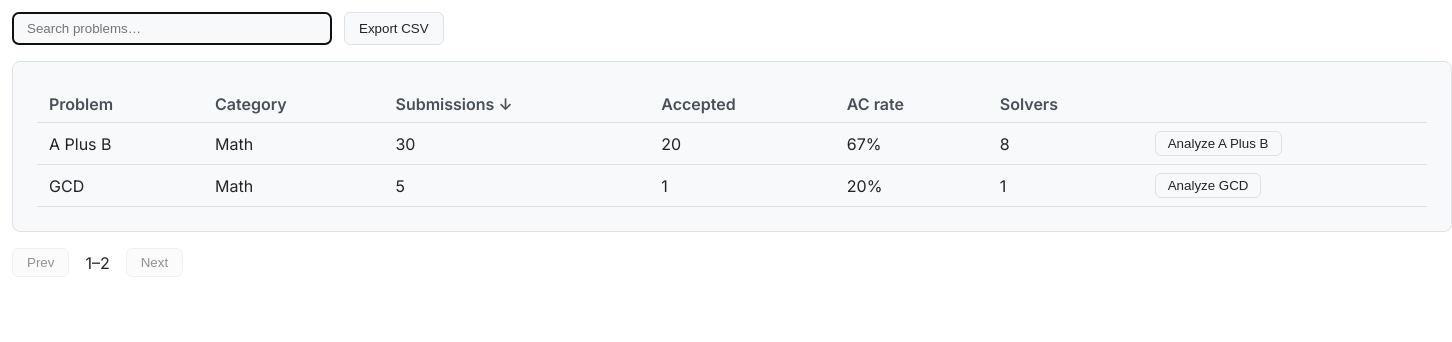
Scenario: ProblemsTab › keeps the focused search input mounted through loading, empty results, and errors
Expected: the text "A Plus B" is shown, x1=37 y1=122 x2=203 y2=164
In the field labelled "Search problems…": (172, 28) x1=12 y1=12 x2=332 y2=45, type "none"
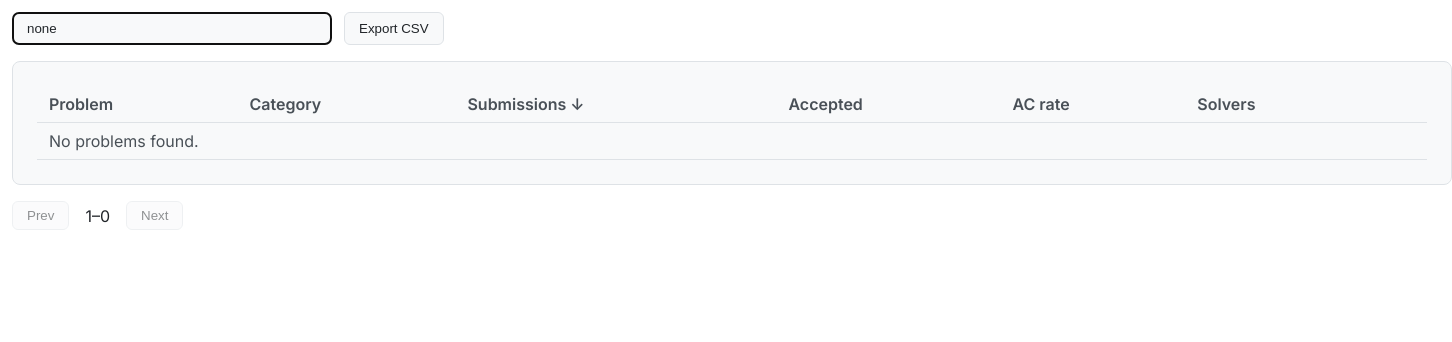
Result: the text "No problems found." is shown at x1=37 y1=122 x2=1427 y2=160
Replace the text in the field named "Search problems" with "failed": (172, 28) x1=12 y1=12 x2=332 y2=45
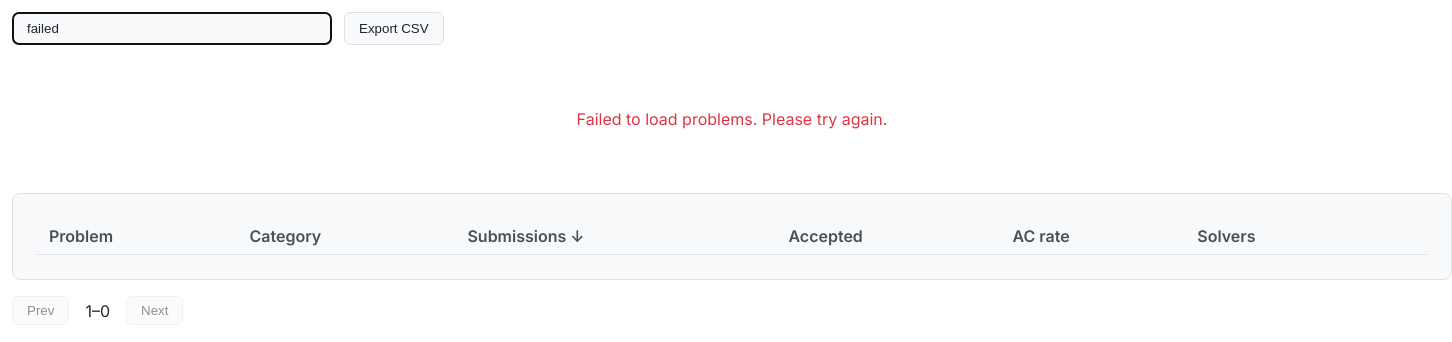
Result: the message shows "Failed to load problems" at x1=577 y1=109 x2=887 y2=129
